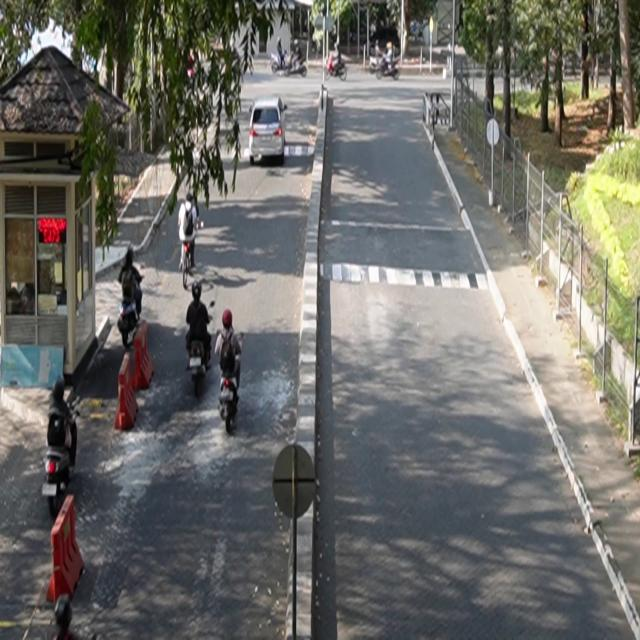car: (249, 96, 288, 166)
